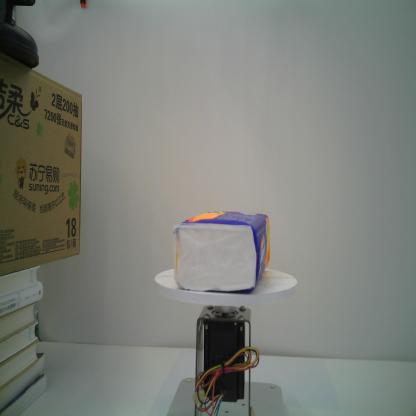Tissue: (170, 204, 272, 296)
